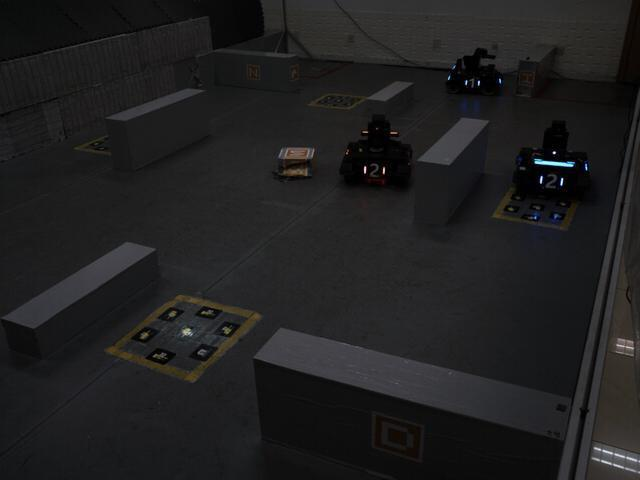armor: (537, 170, 566, 194), (358, 160, 389, 181), (462, 75, 482, 92)
